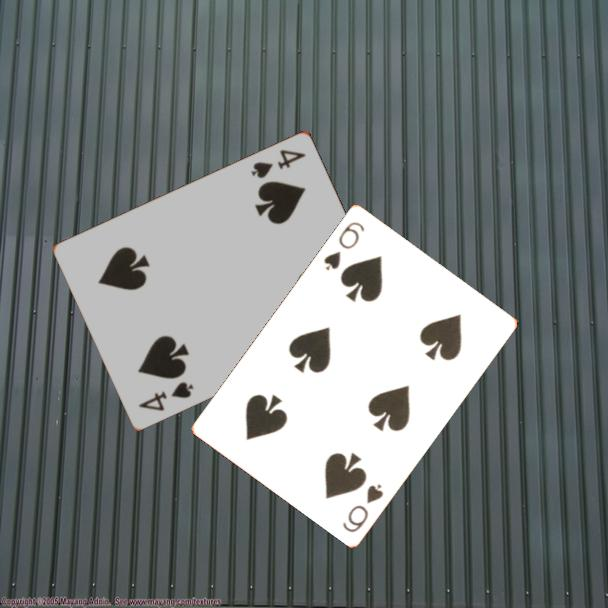s04: (135, 377, 197, 413), (247, 145, 308, 181)
s06: (320, 217, 367, 273), (339, 479, 386, 535)
